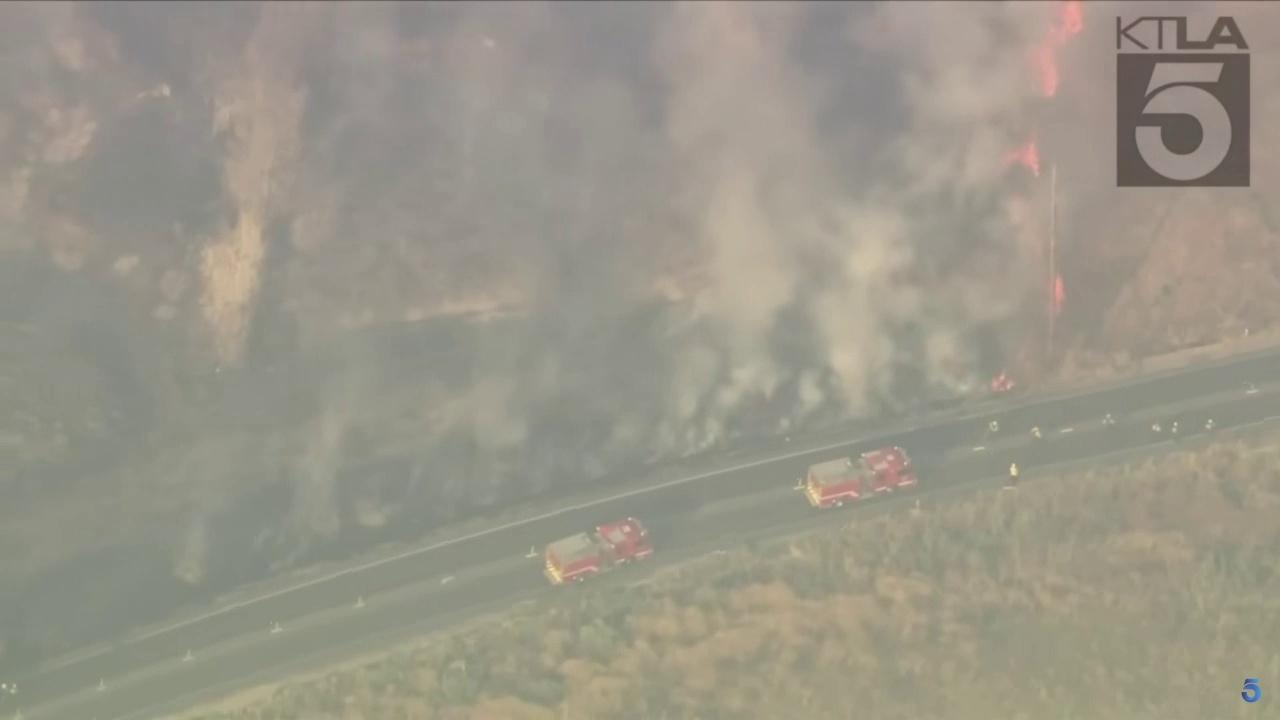fire: (1032, 0, 1084, 98), (1001, 141, 1043, 179), (991, 371, 1017, 394), (1053, 273, 1067, 311)
smoke: (0, 0, 1064, 609)
